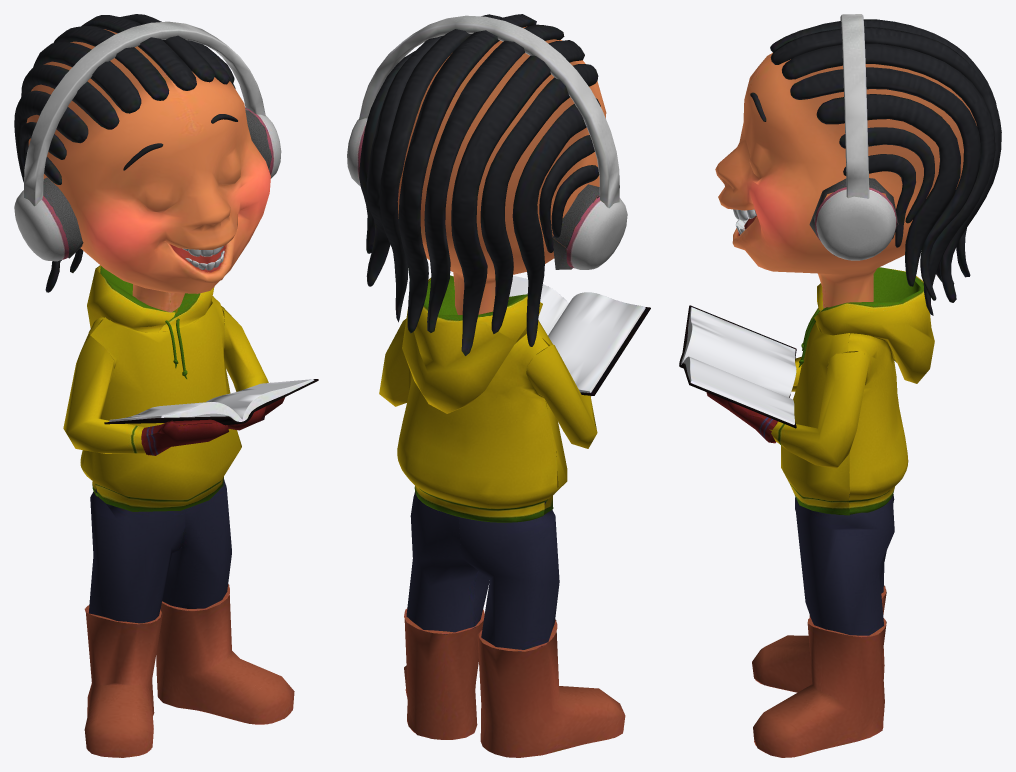
Rendered from embedded_Girl2.gltf.
The picture shows the model from 3 angles, left to right: view 1: azimuth 30°, elevation 25°; view 2: azimuth 150°, elevation 25°; view 3: azimuth 270°, elevation 25°; orthographic projection. The views are drawn at different scales.
Parts seen in each view (by area): view 1: caroler_jacket.1; view 2: caroler_jacket.1; view 3: caroler_jacket.1.
Part boxes in pixels (<box>): caroler_jacket.1: <box>14,14,318,757</box>; caroler_jacket.1: <box>347,14,650,757</box>; caroler_jacket.1: <box>679,14,1001,757</box>.
Size of what is drawn, in the model's own units: 2.02 by 5.31 by 2.29.
1 material, 1 textured.
